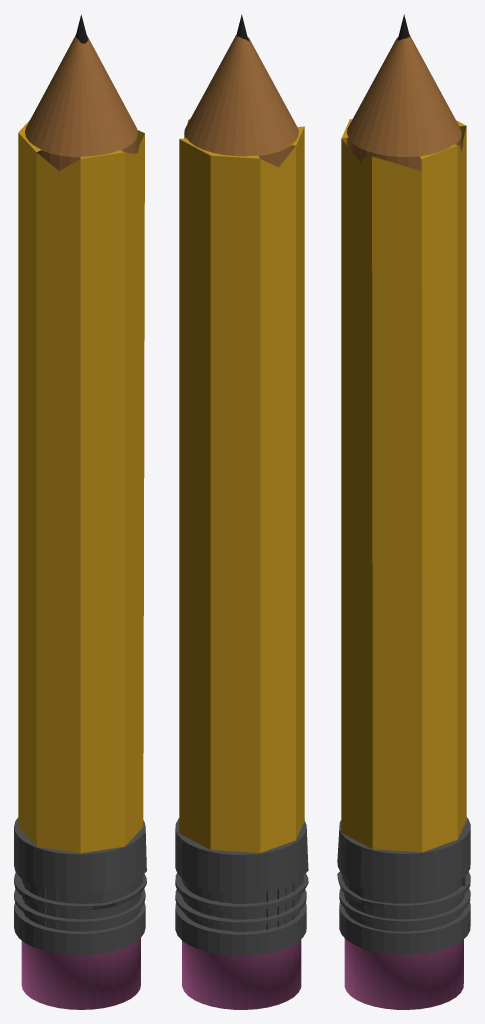
Rendered from pencil.obj.
3 renders of one model, left to right at view 1: azimuth 90°, elevation 25°; view 2: azimuth 150°, elevation 25°; view 3: azimuth 330°, elevation 25°, orthographic.
Visible parts, largest first — view 1: Circle_Circle.001, EraseMetal_Cylinder.001, Cone, PinkEraser_Cylinder; view 2: Circle_Circle.001, EraseMetal_Cylinder.001, Cone, PinkEraser_Cylinder; view 3: Circle_Circle.001, EraseMetal_Cylinder.001, Cone, PinkEraser_Cylinder.
Boxes of the visible parts, x1=… form: Circle_Circle.001: x1=18, y1=120, x2=144, y2=853; EraseMetal_Cylinder.001: x1=14, y1=817, x2=146, y2=955; Cone: x1=25, y1=35, x2=137, y2=170; PinkEraser_Cylinder: x1=21, y1=938, x2=140, y2=1009; Circle_Circle.001: x1=179, y1=119, x2=304, y2=852; EraseMetal_Cylinder.001: x1=175, y1=818, x2=308, y2=955; Cone: x1=184, y1=35, x2=298, y2=167; PinkEraser_Cylinder: x1=182, y1=895, x2=301, y2=1009; Circle_Circle.001: x1=341, y1=119, x2=466, y2=852; EraseMetal_Cylinder.001: x1=337, y1=817, x2=470, y2=954; Cone: x1=346, y1=34, x2=461, y2=170; PinkEraser_Cylinder: x1=344, y1=938, x2=463, y2=1009.
Bounding box in the file's own units: 2.2 × 17.9 × 2.22.
